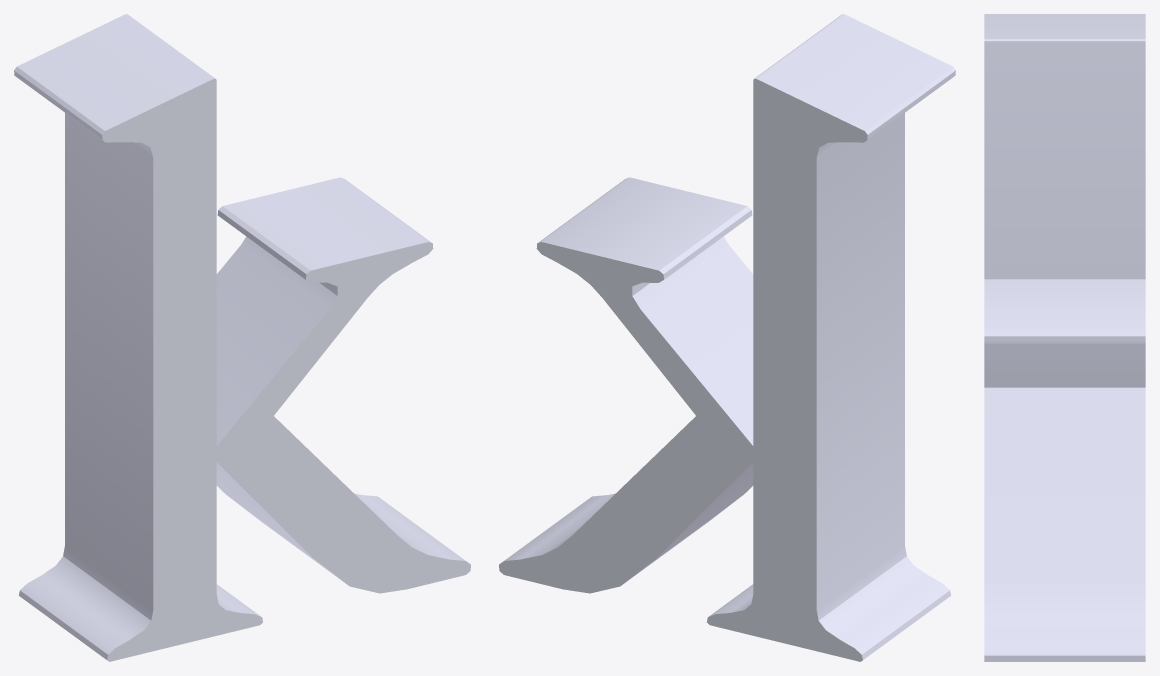
File: K_Soul_Grey.glb
3 renders of one model, left to right at view 1: azimuth 30°, elevation 25°; view 2: azimuth 150°, elevation 25°; view 3: azimuth 270°, elevation 25°, orthographic. The views are drawn at different scales.
Parts seen in each view (by area): view 1: k_Soul_Grey; view 2: k_Soul_Grey; view 3: k_Soul_Grey.
Part boxes in pixels (x1=…): k_Soul_Grey: x1=14, y1=14, x2=470, y2=661; k_Soul_Grey: x1=499, y1=14, x2=955, y2=661; k_Soul_Grey: x1=984, y1=14, x2=1145, y2=661.
Size of what is drawn, in the model's own units: 0.1085 by 0.1569 by 0.045.
Materials: 2 (2 with a texture image).
